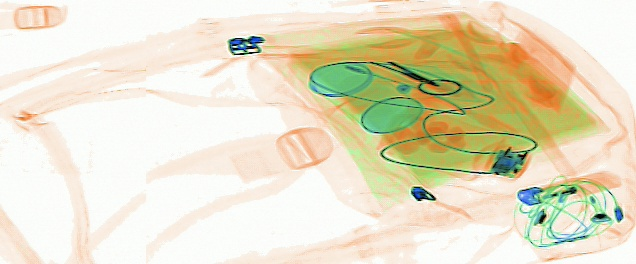lighter: (515, 167, 621, 209)
